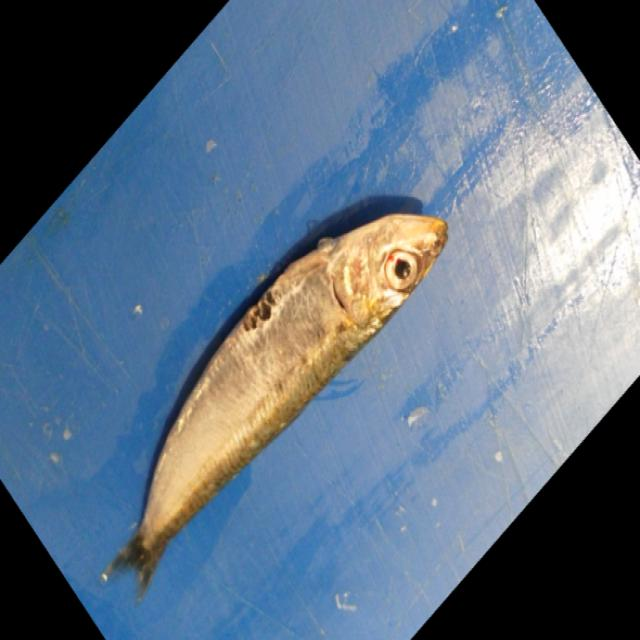Black-Sea-Sprat-tirsi-: (104, 200, 449, 587)
